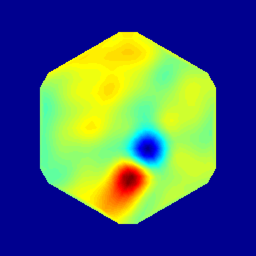ship: (135, 135, 158, 168)
wave: (120, 160, 146, 202)
